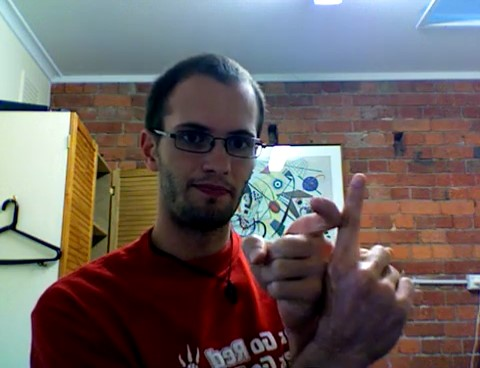K: (235, 169, 417, 368)
